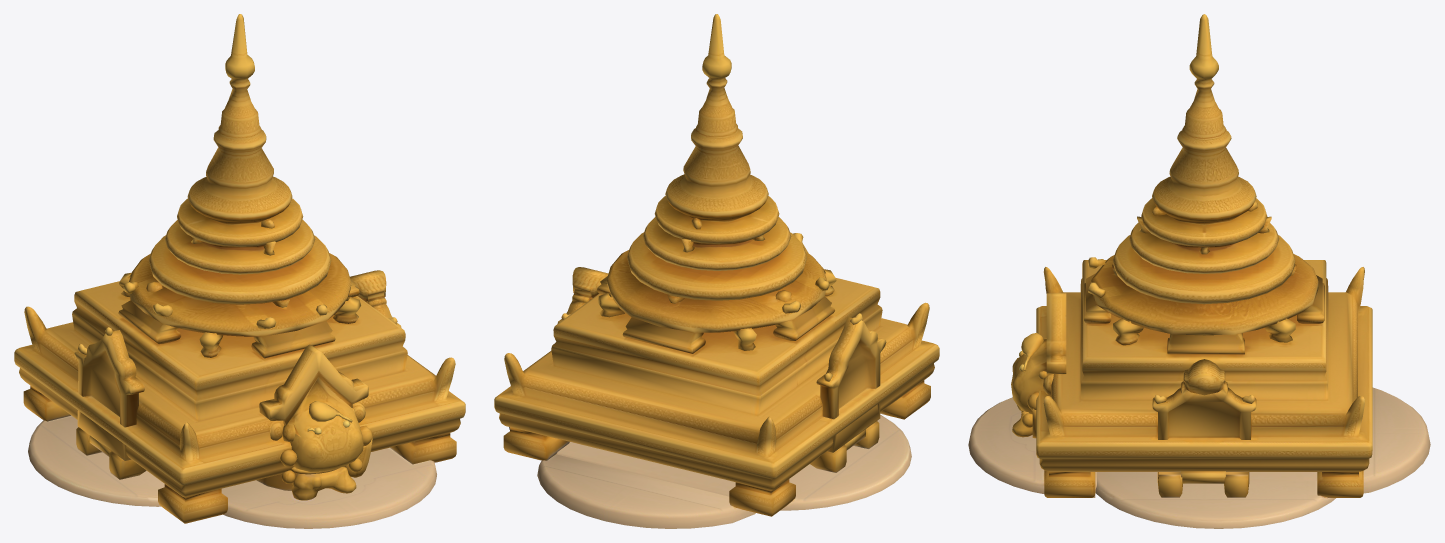
The model's file is thai-envi-2.glb.
The picture shows the model from 3 angles, left to right: view 1: azimuth 30°, elevation 25°; view 2: azimuth 150°, elevation 25°; view 3: azimuth 270°, elevation 25°; orthographic projection.
Parts seen in each view (by area): view 1: tripo_node_fde1fb03-b078-404e-a086-720d3e4ef4bf; view 2: tripo_node_fde1fb03-b078-404e-a086-720d3e4ef4bf; view 3: tripo_node_fde1fb03-b078-404e-a086-720d3e4ef4bf.
Boxes of the visible parts, x1,y1,x2,y2 form: tripo_node_fde1fb03-b078-404e-a086-720d3e4ef4bf: (14,14,465,528); tripo_node_fde1fb03-b078-404e-a086-720d3e4ef4bf: (494,14,939,528); tripo_node_fde1fb03-b078-404e-a086-720d3e4ef4bf: (968,14,1430,528).
Size of the model in its own units: 0.9077 by 0.9995 by 0.9731.
Materials: 1 (1 with a texture image).
